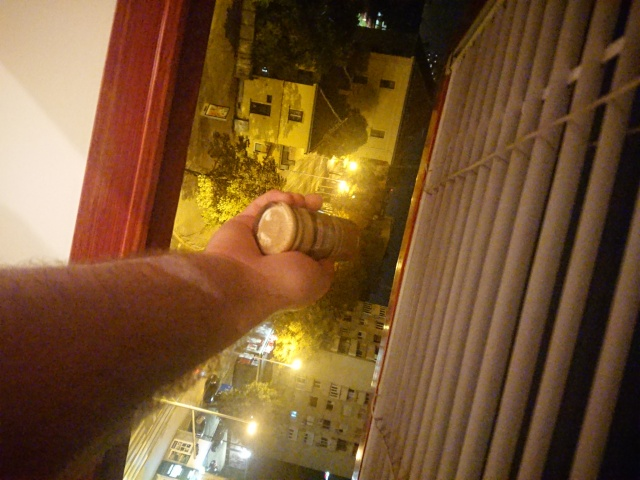Kotanyi Garlic Granules 70g: (250, 199, 362, 264)
